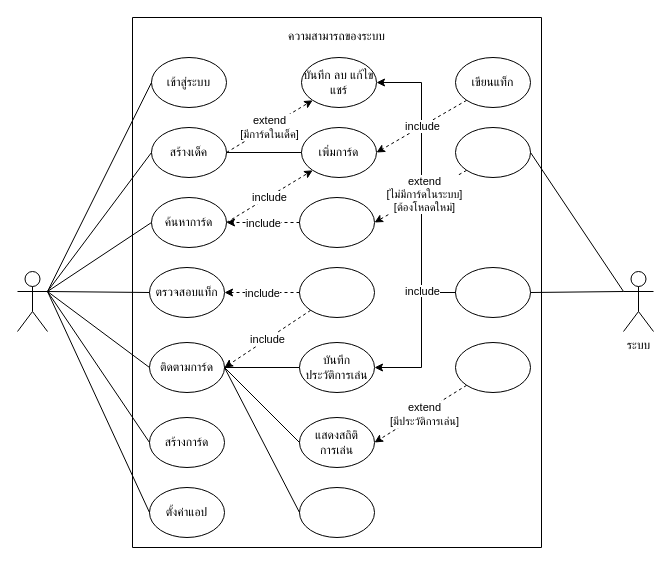
The diagram is 671 pixels wide and 565 high, and some of its shapes have lost their labels. The shapes that lost their labels are listed below. From the top down, each one's centre as x and y in pixels, then its label:
the point at 492,152: โหลดการ์ดจาก API
the point at 336,222: เลือกเกม
the point at 32,301: ผู้ใช้
the point at 336,292: อ่านแท็ก
the point at 492,292: sync ข้อมูล กับ firebase
the point at 492,367: แสดง ประวัติการเล่น
the point at 336,512: สร้างห้อง เล่นการ์ด
